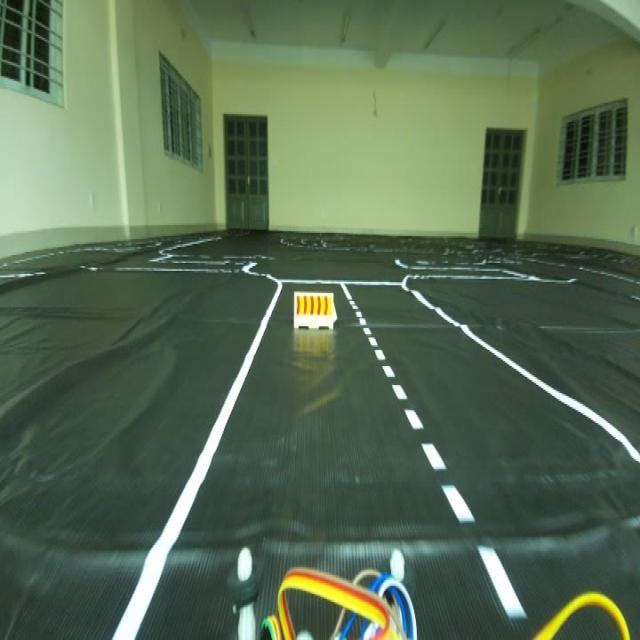roadblock: (293, 288, 339, 336)
